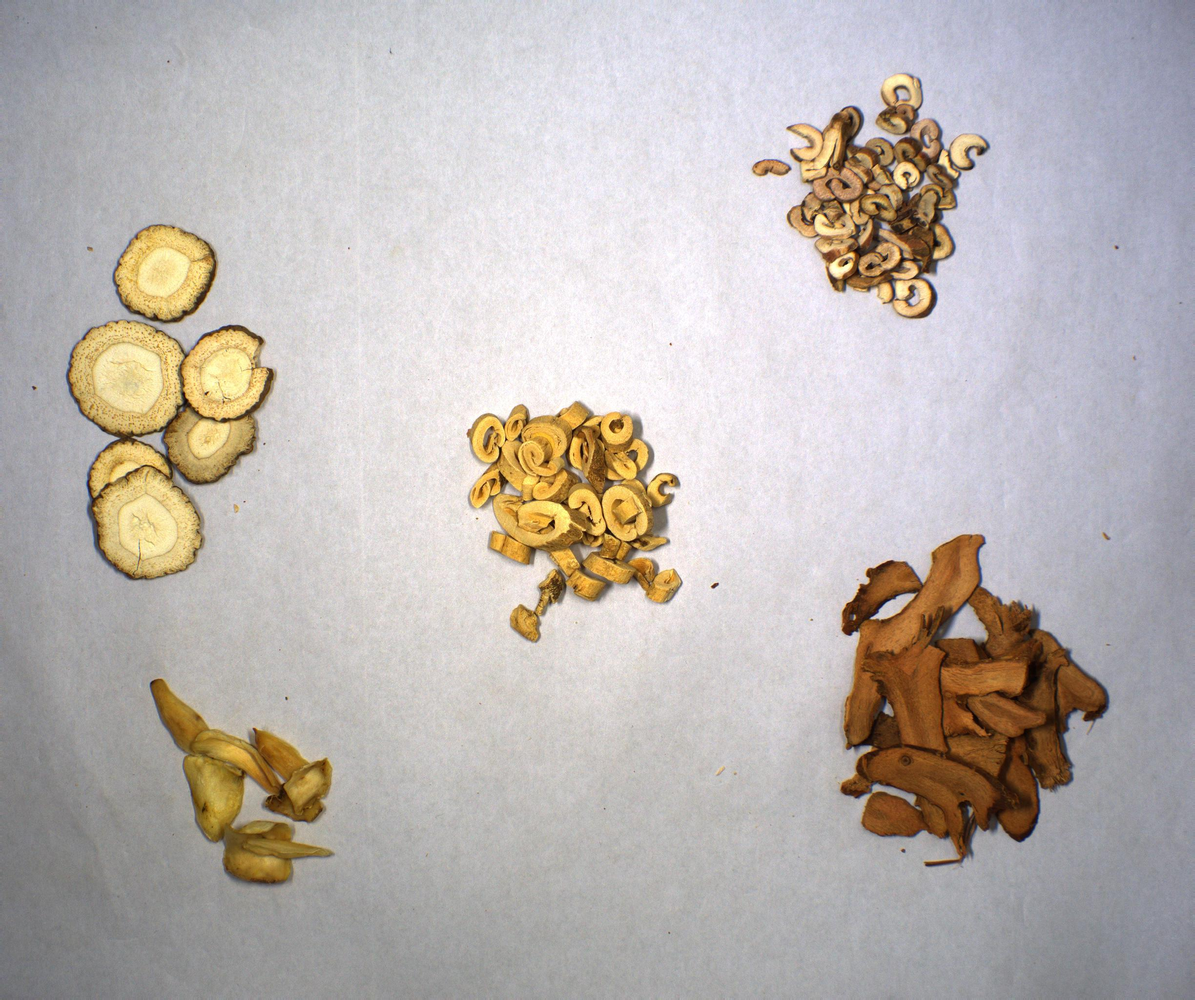baihe: (148, 675, 342, 890)
baixianpi: (463, 396, 683, 644)
baizhi: (61, 224, 268, 578)
gaoliangjiang: (838, 533, 1111, 863)
mudanpi: (750, 73, 988, 319)
